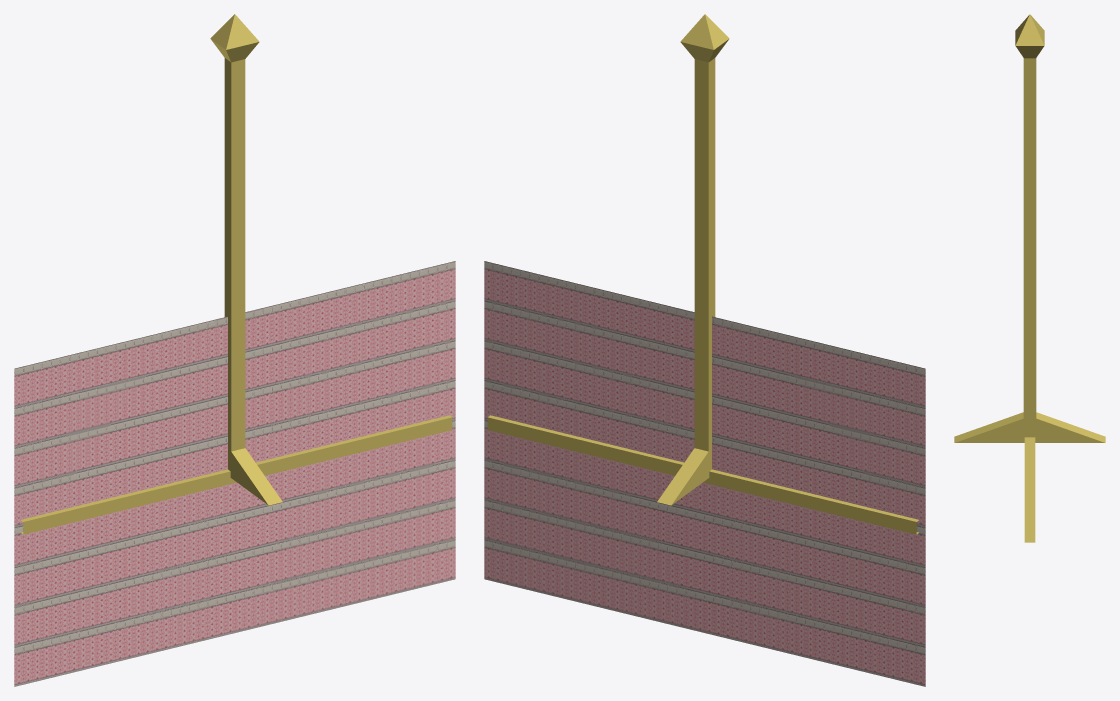
The model's file is 4414wall_r.gltf.
3 views of the same model, side by side, from view 1: azimuth 30°, elevation 25°; view 2: azimuth 150°, elevation 25°; view 3: azimuth 270°, elevation 25° (orthographic). The views are drawn at different scales.
Visible parts, largest first — view 1: 4414wall_r; view 2: 4414wall_r; view 3: 4414wall_r.
Part boxes in pixels (<box>): 4414wall_r: <box>14,14,455,686</box>; 4414wall_r: <box>484,14,925,686</box>; 4414wall_r: <box>954,14,1105,542</box>.
Size of the model in its own units: 1.83 by 2.45 by 0.5869.
2 materials, 1 textured.
